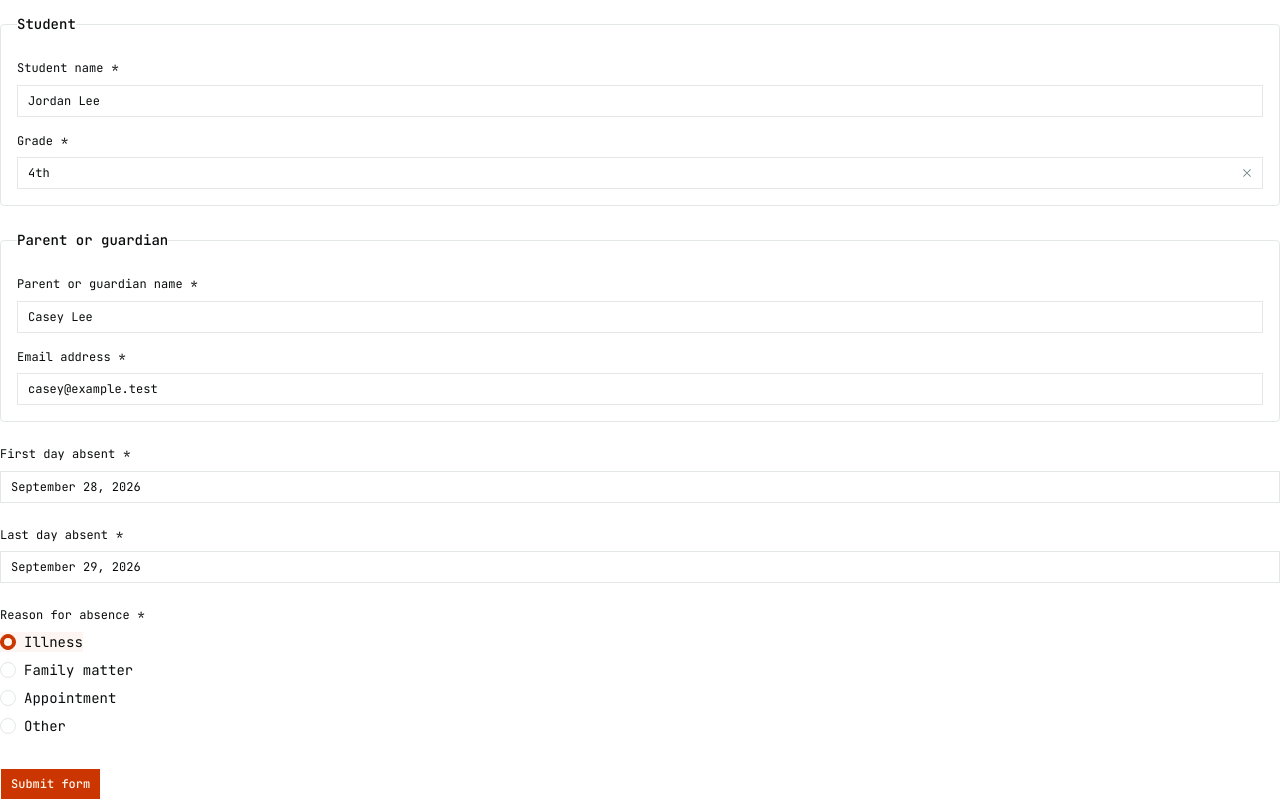
#DynamicForm › shows unmatched and hidden server errors at form level
The width and height of the screenshot is (1280, 800).
(page scrolled)
Click the button "Submit form": point(51, 784) [0,768,101,799]
(page scrolled)
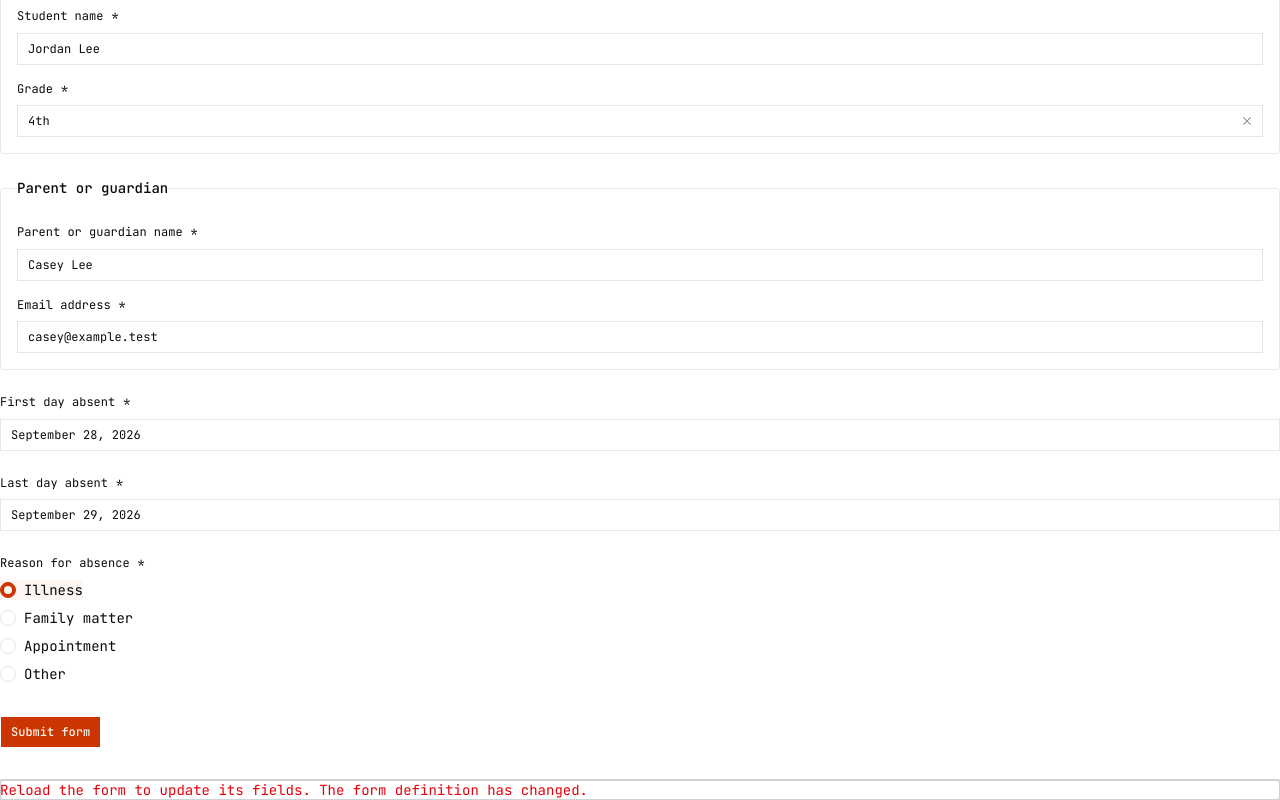
Expected: the message reads "Reload the form to update its fields. The form definition has changed.", [0,780,588,798]
